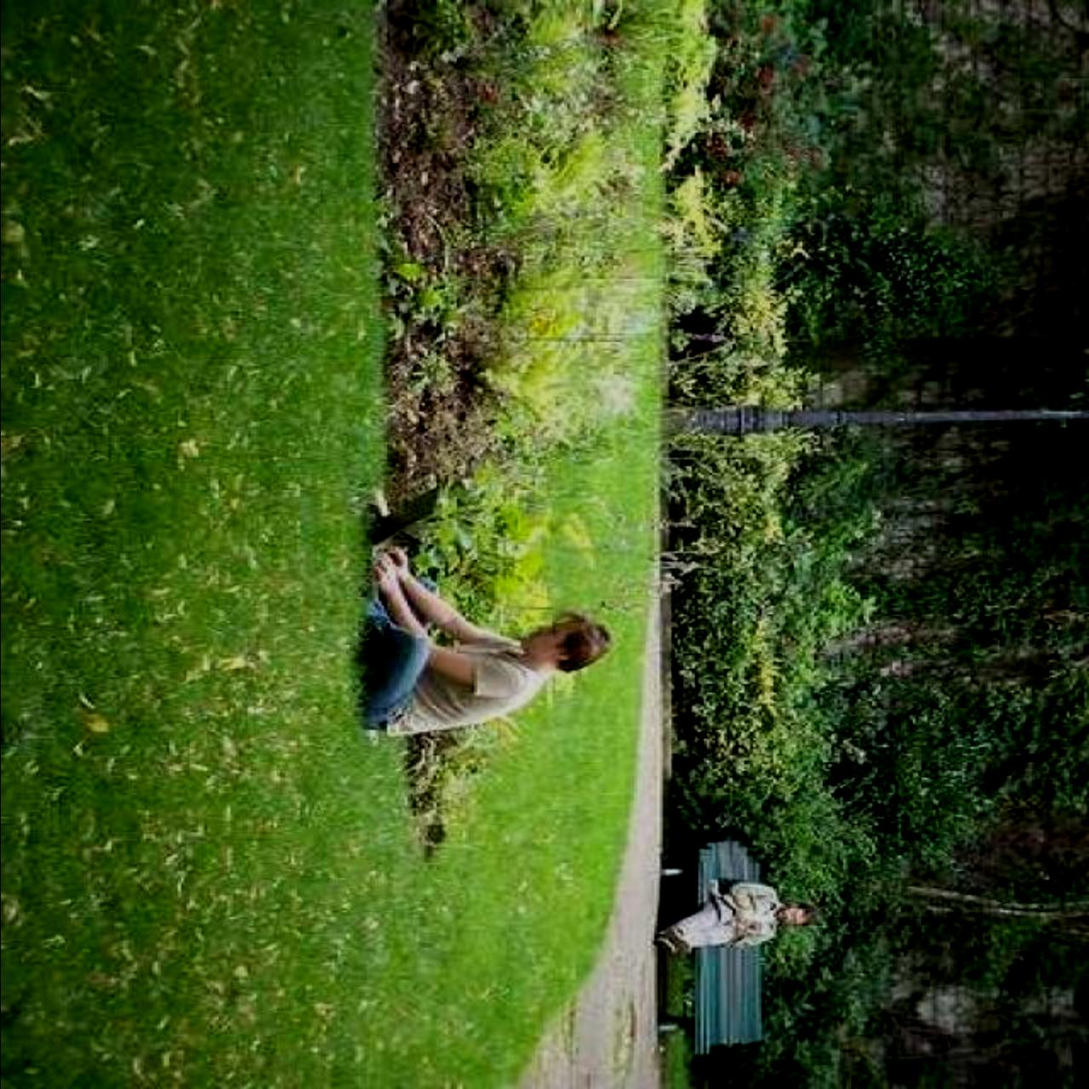laptop: (366, 485, 437, 584)
